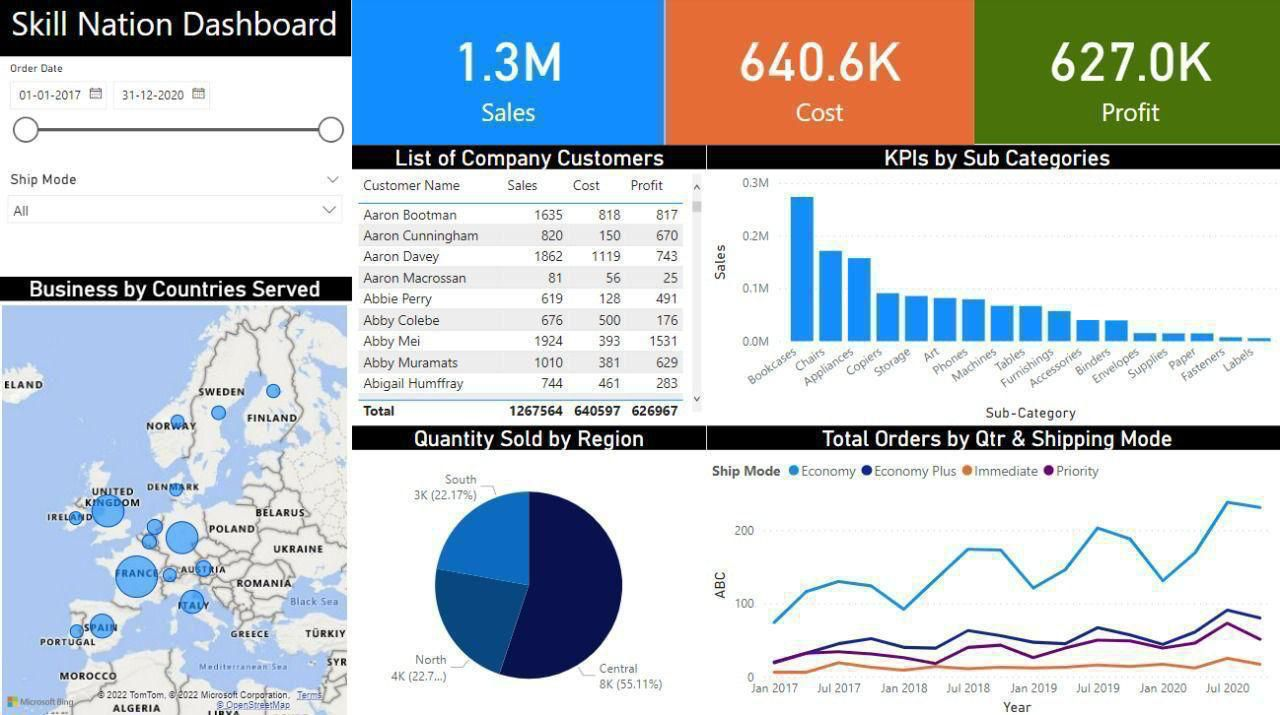

Layout of this report page (visuals, bound fields, positions):
{"tool":"powerbi","page":{"name":"Page 1","canvas":[1280,720],"ordinal":0},"visuals":[{"type":"card","fields":{"Values":["Sum(List of Orders.Sales)"]},"box":[403.4,1.4,279.9,193.8],"z":0},{"type":"card","fields":{"Values":["Sum(List of Orders.Cost)"]},"box":[683.3,0,281.3,195.2],"z":1},{"type":"card","fields":{"Values":["Sum(List of Orders.Profit)"]},"box":[964.6,0,281.3,195.2],"z":2},{"type":"tableEx","fields":{"Values":["List of Orders.Customer Name","Sum(List of Orders.Sales)","Sum(List of Orders.Cost)","Sum(List of Orders.Profit)"]},"box":[403.4,195.2,420.6,238.3],"z":3},{"type":"clusteredColumnChart","fields":{"Category":["List of Orders.Sub-Category"],"Y":["Sum(List of Orders.Sales)"]},"box":[823.9,195.2,456.5,238.3],"z":4},{"type":"lineChart","fields":{"Y":["CountNonNull(List of Orders.Order ID)"],"Category":["List of Orders.Order Date.Variation.Date Hierarchy.Year","List of Orders.Order Date.Variation.Date Hierarchy.Quarter"],"Series":["List of Orders.Ship Mode"]},"box":[823.9,433.5,456.5,287.1],"z":5},{"type":"pieChart","fields":{"Category":["List of Orders.Region"],"Y":["Sum(List of Orders.Quantity)"]},"box":[403.4,433.5,420.6,287.1],"z":6},{"type":"map","fields":{"Category":["List of Orders.Country"],"Size":["Sum(List of Orders.Sales)"]},"box":[0,300,403.4,420.6],"z":7}]}

Visuals, with their boxes in screenshot pixels (x1, y1, x2, y2), scaled from the page's 1280x720 canvas onto the 1280x715 screenshot:
card - Sum(List of Orders.Sales): (left=403, top=1, right=683, bottom=194)
card - Sum(List of Orders.Cost): (left=683, top=0, right=965, bottom=194)
card - Sum(List of Orders.Profit): (left=965, top=0, right=1246, bottom=194)
tableEx - List of Orders.Customer Name x Sum(List of Orders.Sales): (left=403, top=194, right=824, bottom=430)
clusteredColumnChart - List of Orders.Sub-Category x Sum(List of Orders.Sales): (left=824, top=194, right=1279, bottom=430)
lineChart - CountNonNull(List of Orders.Order ID) x List of Orders.Order Date.Variation.Date Hierarchy.Year: (left=824, top=430, right=1279, bottom=714)
pieChart - List of Orders.Region x Sum(List of Orders.Quantity): (left=403, top=430, right=824, bottom=714)
map - List of Orders.Country x Sum(List of Orders.Sales): (left=0, top=298, right=403, bottom=714)
